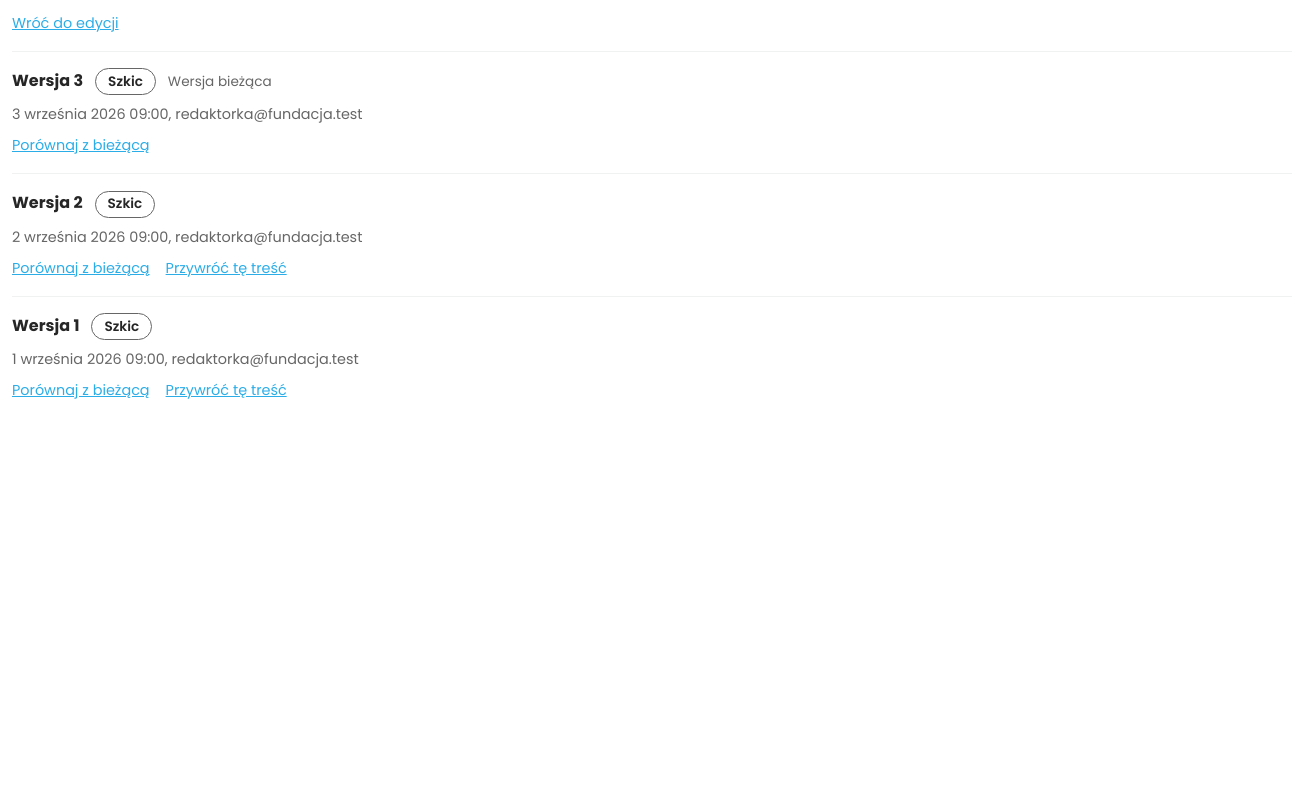
VersionHistory › compares an older version with the current one line by line
This screenshot has width=1292, height=812.
Expected: the text "Wersja 3" is shown, [12, 68, 83, 94]
Step 1. Click the button "Porównaj z bieżącą" below "Wersja 1" → [81, 391], box [12, 379, 150, 402]
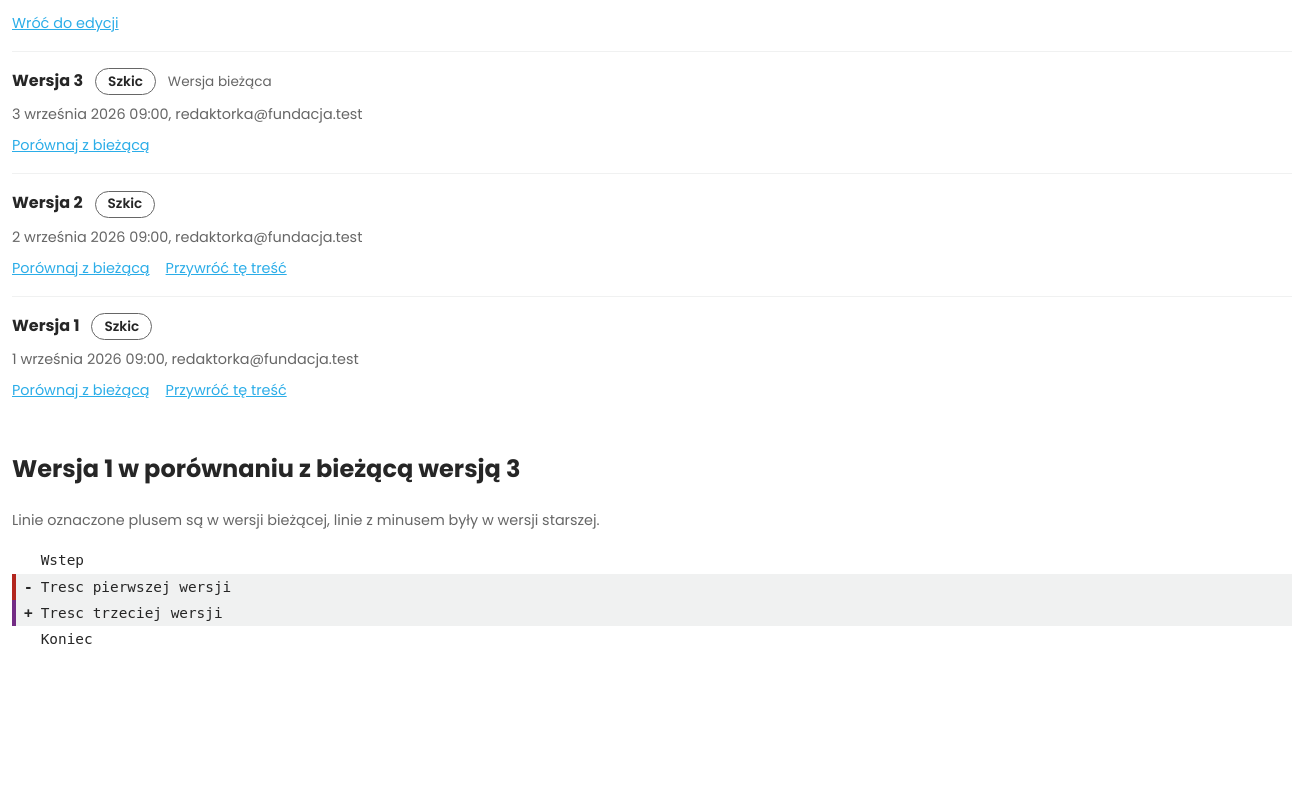
Expected: the text "Tresc pierwszej wersji" is shown, [41, 576, 231, 598]
Expected: the text "Tresc trzeciej wersji" is shown, [41, 602, 223, 625]
Expected: the text "Wstep" is shown, [41, 549, 84, 572]
